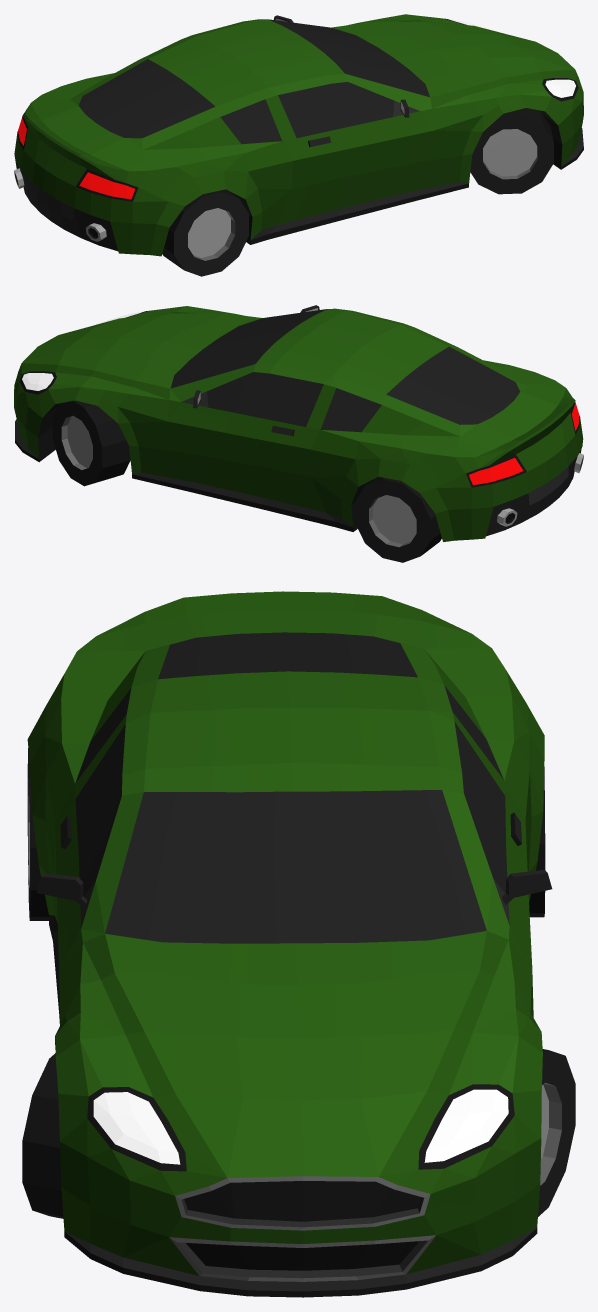
The model's file is Car_050.glb.
3 views of the same model, one above another, from view 1: azimuth 30°, elevation 25°; view 2: azimuth 150°, elevation 25°; view 3: azimuth 270°, elevation 25° (orthographic). The views are drawn at different scales.
Parts seen in each view (by area): view 1: Car_050, wheel_1_Car_050_Wheel_1R, wheel_3_Car_050_Wheel_2R; view 2: Car_050, wheel_2_Car_050_Wheel_2L, wheel_0_Car_050_Wheel_1L; view 3: Car_050, wheel_1_Car_050_Wheel_1R, wheel_0_Car_050_Wheel_1L, wheel_3_Car_050_Wheel_2R.
Part boxes in pixels (box(x1,y1,x2,y2)): Car_050: box(14, 14, 583, 256); wheel_1_Car_050_Wheel_1R: box(470, 108, 553, 194); wheel_3_Car_050_Wheel_2R: box(162, 189, 248, 276); Car_050: box(14, 305, 583, 541); wheel_2_Car_050_Wheel_2L: box(355, 476, 441, 562); wheel_0_Car_050_Wheel_1L: box(52, 400, 130, 486); Car_050: box(27, 591, 552, 1297); wheel_1_Car_050_Wheel_1R: box(22, 1053, 63, 1218); wheel_0_Car_050_Wheel_1L: box(538, 1049, 575, 1216); wheel_3_Car_050_Wheel_2R: box(27, 748, 48, 920).
Size of the model in its own units: 5.23 by 1.4 by 2.41.
Materials: 3 (3 with a texture image).
